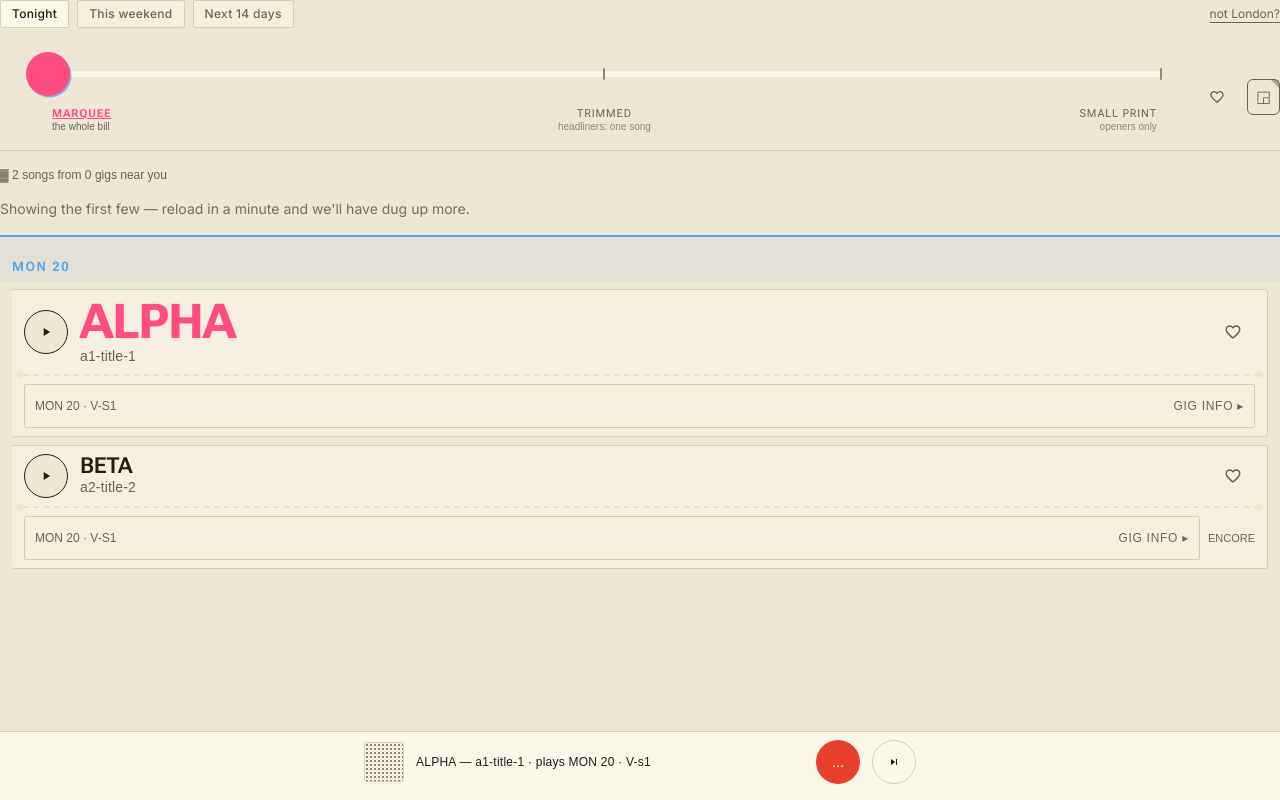
Test: Lineup Poster trigger + peel (Task 4.7) › a plain click on the icon button opens the poster directly
Click the button named "make a poster": (1263, 97) [1247,79,1279,115]
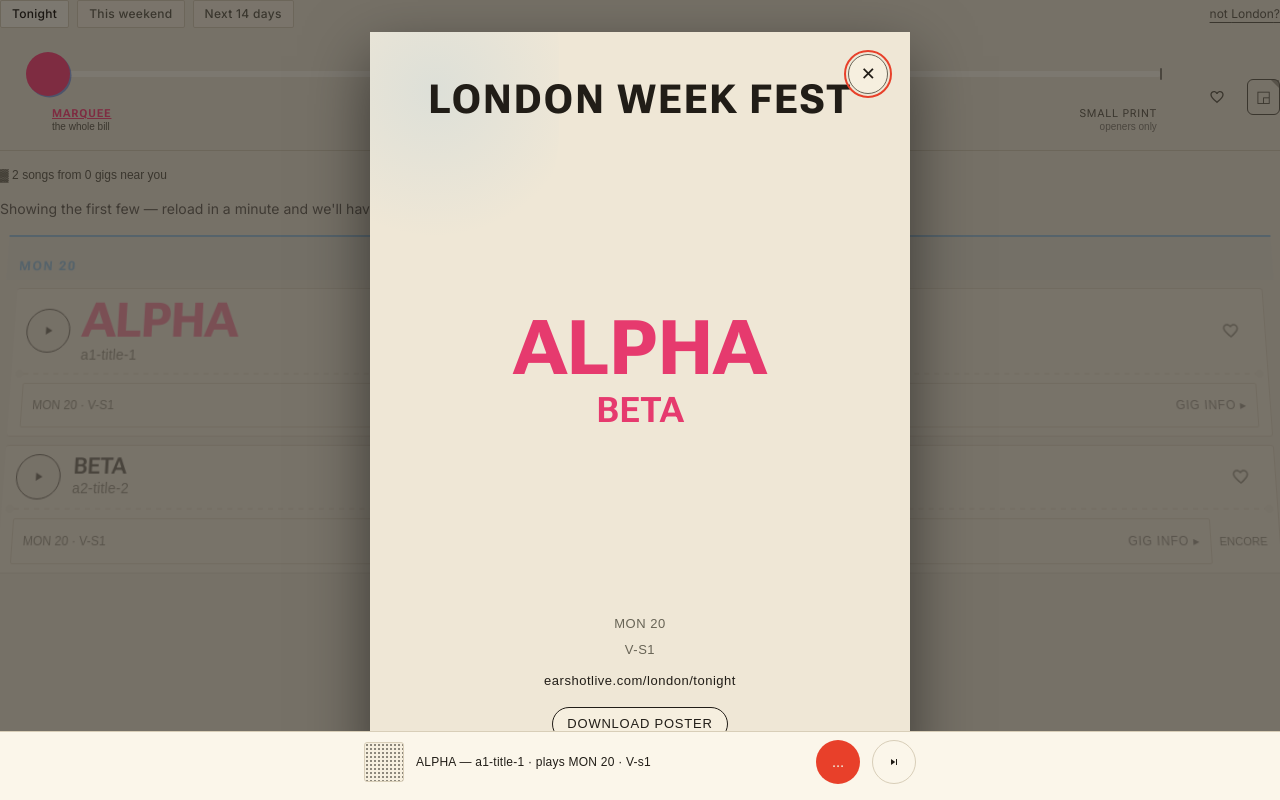
Check: the dialog "LONDON WEEK FEST" is shown, box [370,32,910,768]
